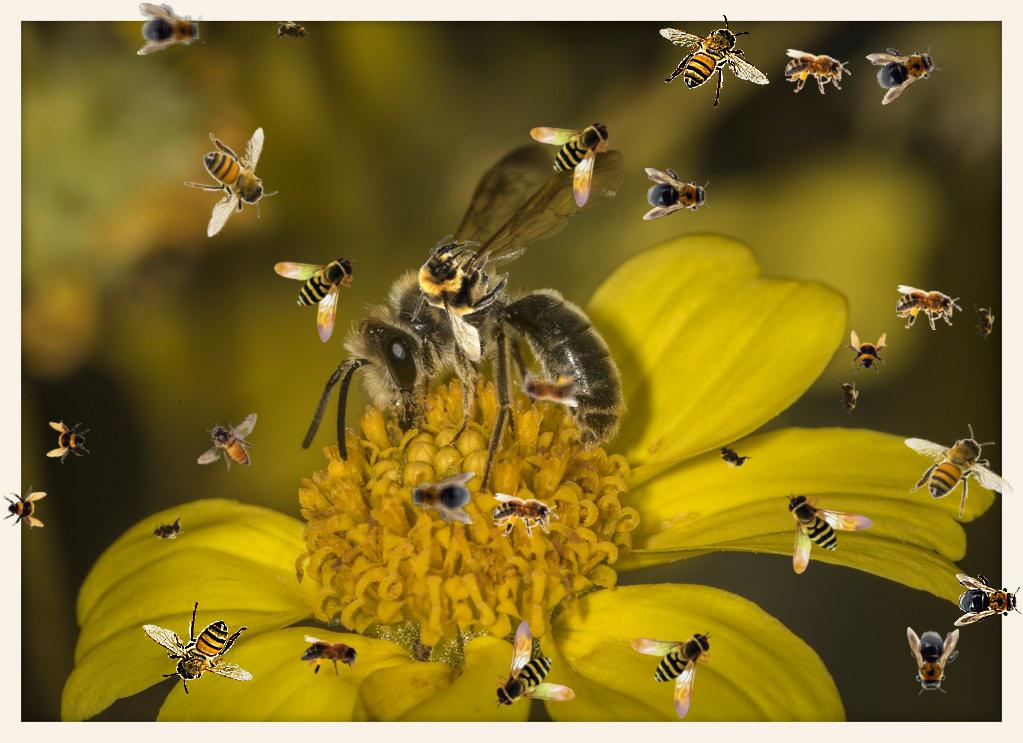Bee: (383, 220, 540, 377), (659, 14, 770, 108), (184, 127, 278, 238), (142, 601, 253, 695), (904, 424, 1015, 518), (786, 492, 874, 574), (530, 120, 612, 208), (631, 631, 713, 719), (493, 620, 575, 708), (274, 255, 356, 343), (863, 32, 947, 106), (187, 411, 271, 480), (137, 3, 205, 55), (407, 472, 475, 524), (643, 168, 711, 220), (907, 627, 959, 695), (954, 574, 1022, 626), (514, 362, 580, 407), (493, 493, 559, 538), (896, 285, 962, 330), (301, 635, 367, 680), (785, 49, 851, 94), (46, 420, 90, 464), (3, 485, 47, 529), (844, 330, 888, 374), (709, 435, 755, 477), (144, 514, 190, 546), (271, 17, 315, 47), (973, 303, 995, 343), (837, 378, 859, 418)
